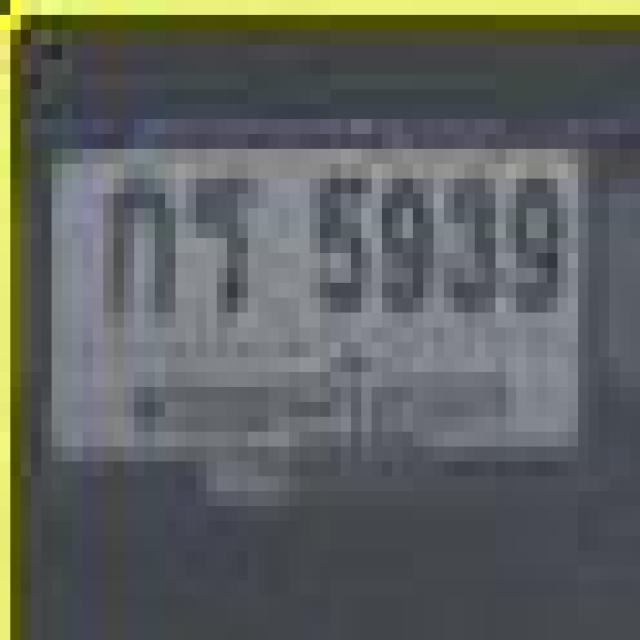license_plate: (22, 101, 614, 511)
